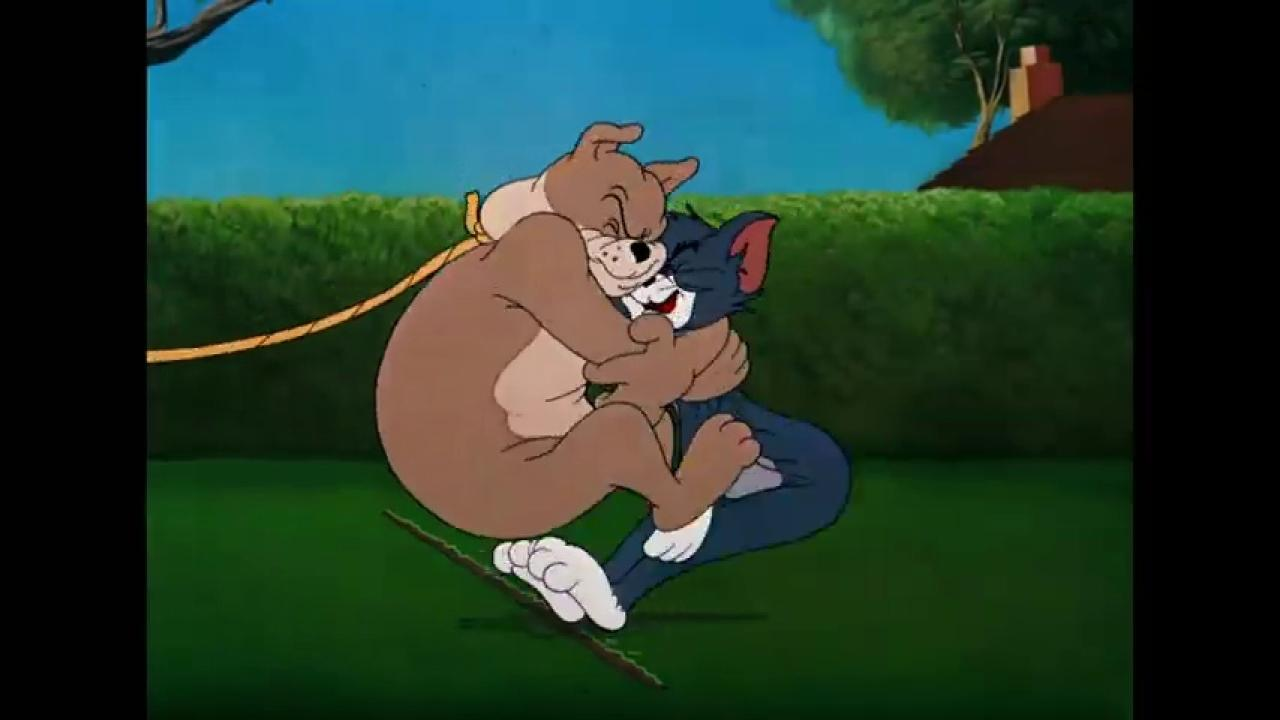Tom: (490, 204, 856, 632)
